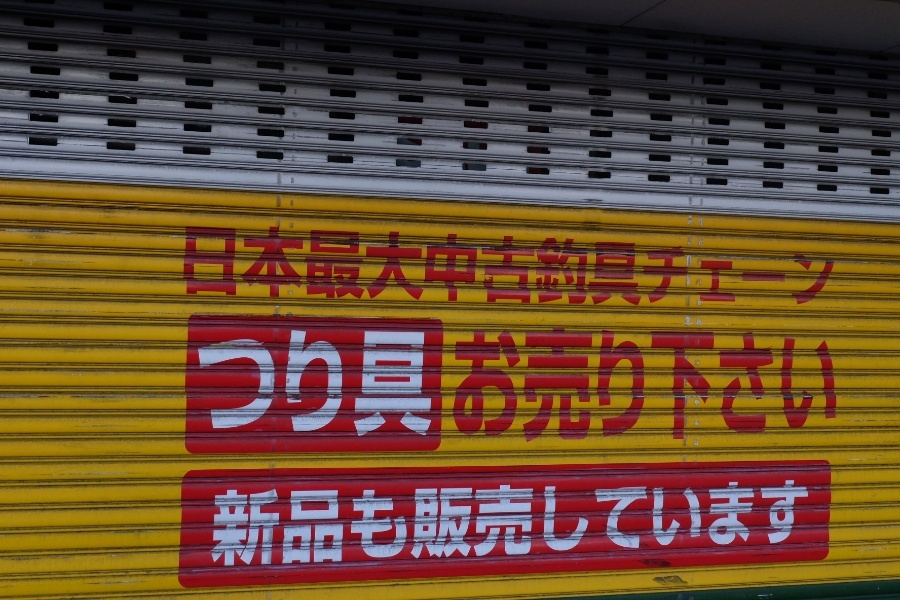text: (465, 324, 480, 442), (481, 324, 496, 442), (497, 324, 512, 442), (513, 324, 528, 442), (529, 324, 544, 442), (545, 324, 560, 442), (561, 324, 576, 442), (577, 324, 592, 442), (593, 324, 608, 442), (609, 324, 624, 442), (625, 324, 640, 442), (641, 324, 656, 442), (657, 324, 672, 442), (673, 324, 688, 442), (689, 324, 704, 442), (705, 324, 720, 442), (721, 324, 736, 442), (737, 324, 752, 442), (753, 324, 768, 442), (769, 324, 784, 442), (785, 324, 800, 442), (801, 324, 816, 442), (817, 324, 832, 442), (209, 331, 224, 441), (225, 331, 240, 441), (241, 331, 256, 441), (257, 331, 272, 441), (273, 331, 288, 441), (289, 331, 304, 441), (305, 331, 320, 441), (321, 331, 336, 441), (337, 331, 352, 441), (353, 331, 368, 441), (369, 331, 384, 441), (385, 331, 400, 441), (401, 331, 416, 441), (417, 331, 432, 441), (209, 476, 224, 574), (225, 476, 240, 574), (241, 476, 256, 574), (257, 476, 272, 574), (273, 476, 288, 574), (289, 476, 304, 574), (305, 476, 320, 574), (321, 476, 336, 574), (337, 476, 352, 574), (353, 476, 368, 574), (369, 476, 384, 574), (385, 476, 400, 574), (401, 476, 416, 574), (417, 476, 432, 574), (433, 476, 448, 574), (449, 476, 464, 574), (465, 476, 480, 574), (481, 476, 496, 574), (497, 476, 512, 574), (513, 476, 528, 574), (529, 476, 544, 574), (545, 476, 560, 574), (561, 476, 576, 574), (577, 476, 592, 574), (593, 476, 608, 574), (609, 476, 624, 574), (625, 476, 640, 574), (641, 476, 656, 574), (657, 476, 672, 574), (673, 476, 688, 574), (689, 476, 704, 574), (705, 476, 720, 574), (721, 476, 736, 574), (737, 476, 752, 574), (753, 476, 768, 574), (769, 476, 784, 574), (785, 476, 800, 574), (801, 476, 816, 574), (453, 324, 464, 442), (833, 324, 844, 442), (193, 222, 208, 306), (209, 222, 224, 306), (225, 222, 240, 306), (241, 222, 256, 306), (257, 222, 272, 306), (273, 222, 288, 306), (289, 222, 304, 306), (305, 222, 320, 306), (321, 222, 336, 306), (337, 222, 352, 306), (353, 222, 368, 306), (369, 222, 384, 306), (385, 222, 400, 306), (401, 222, 416, 306), (417, 222, 432, 306), (433, 222, 448, 306), (449, 222, 464, 306), (465, 222, 480, 306), (481, 222, 496, 306), (497, 222, 512, 306), (513, 222, 528, 306), (529, 222, 544, 306), (545, 222, 560, 306), (561, 222, 576, 306), (577, 222, 592, 306), (593, 222, 608, 306), (609, 222, 624, 306), (625, 222, 640, 306), (641, 222, 656, 306), (657, 222, 672, 306), (673, 222, 688, 306), (689, 222, 704, 306), (705, 222, 720, 306), (721, 222, 736, 306), (737, 222, 752, 306), (753, 222, 768, 306), (769, 222, 784, 306), (785, 222, 800, 306), (801, 222, 816, 306), (817, 222, 832, 306), (199, 331, 208, 441), (182, 222, 192, 306), (833, 222, 841, 306), (433, 331, 435, 441), (817, 476, 818, 574)
